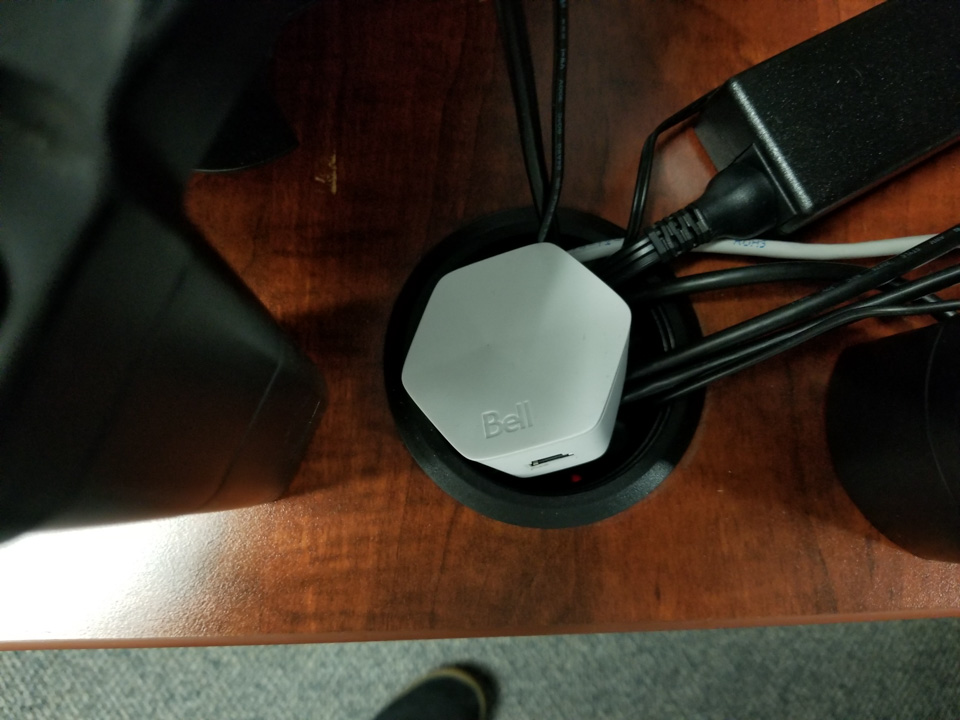pod: (395, 230, 646, 489)
